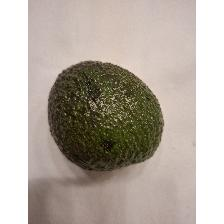Avocado: (47, 58, 168, 176)
